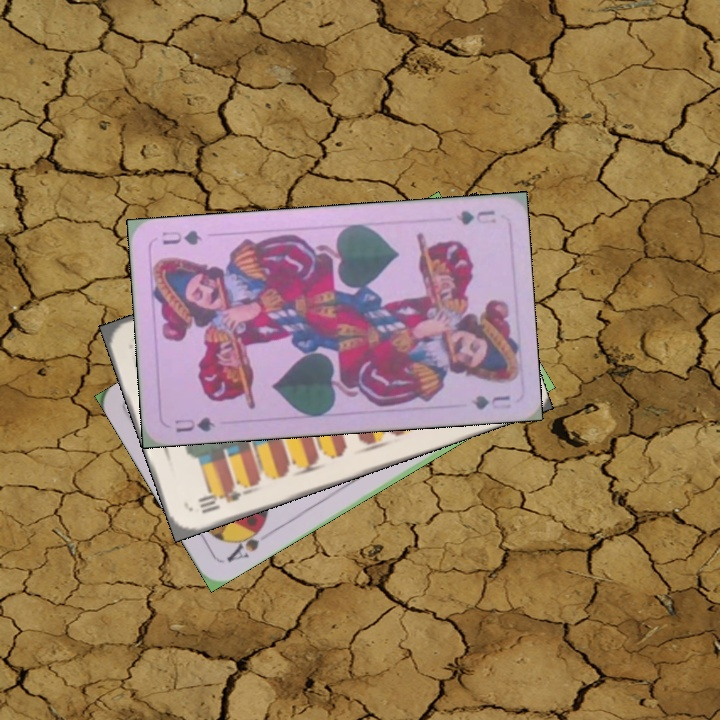E10: (194, 483, 243, 517)
GU: (171, 413, 218, 435), (452, 206, 499, 227)
SA: (223, 519, 268, 565)
